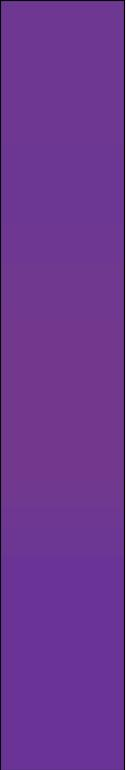safe: (6, 15, 123, 764)
